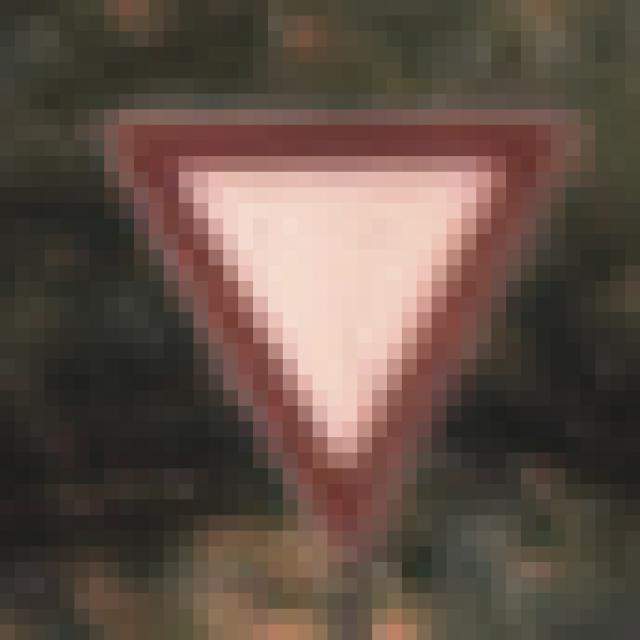Give Way: (90, 95, 567, 563)
